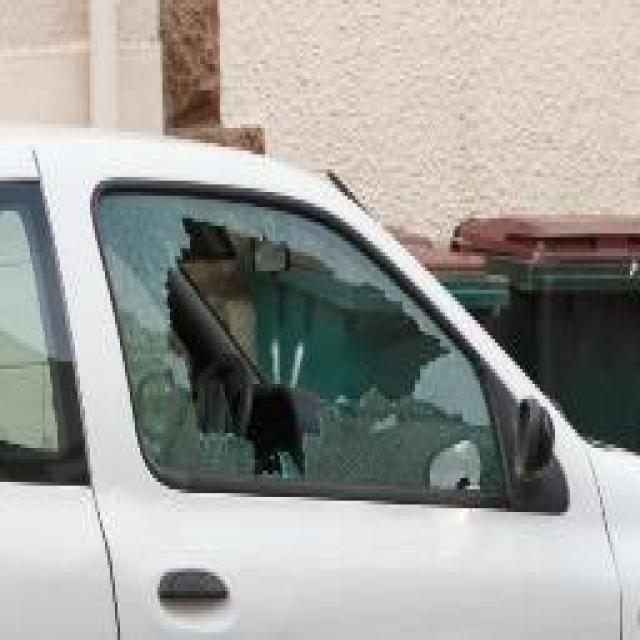Door: (98, 188, 508, 640)
